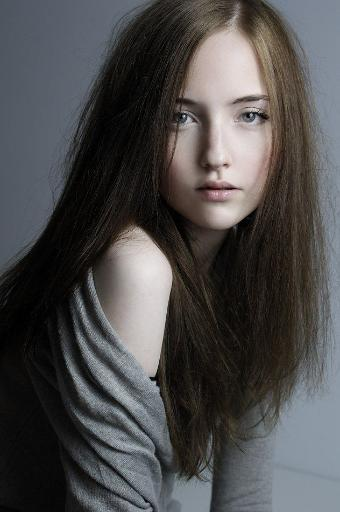left_eye: (235, 110, 270, 133)
left_lip_corner: (235, 183, 246, 201)
right_eye: (176, 112, 202, 132)
right_lip_corner: (194, 182, 204, 202)
